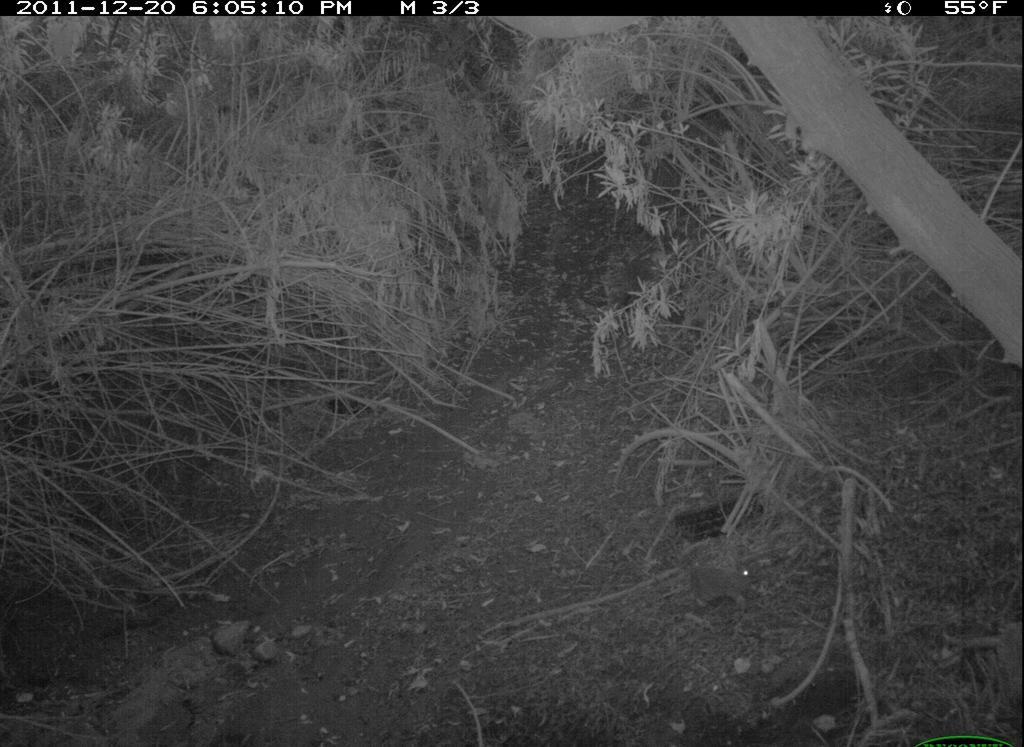rabbit: (676, 532, 769, 621)
